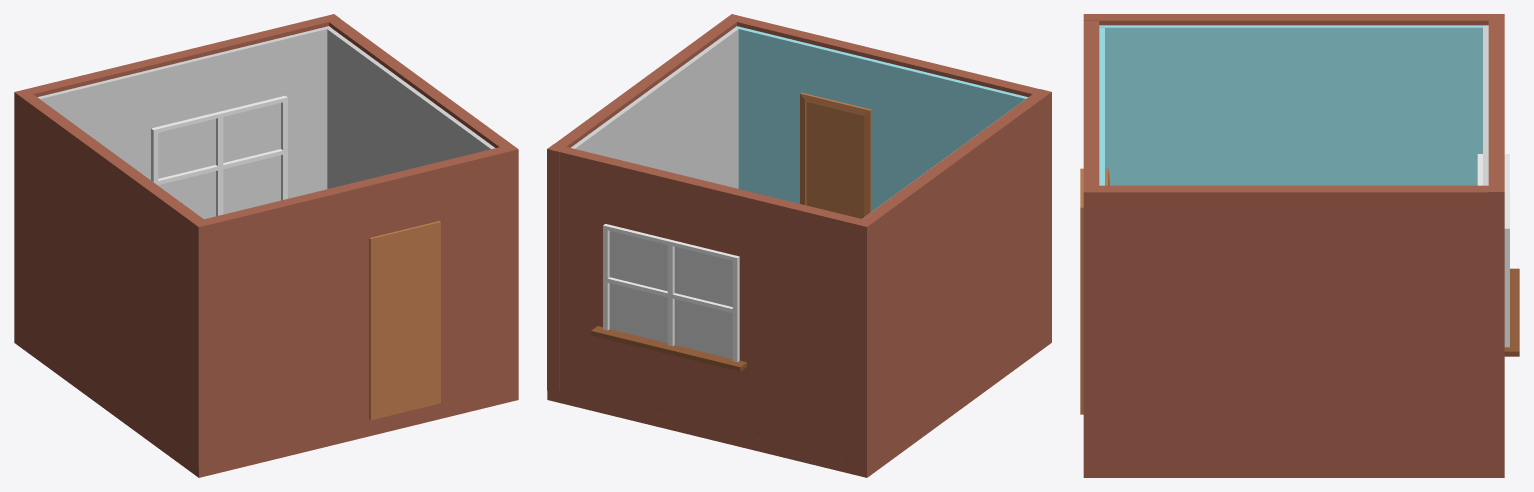
The model's file is room base.fbx.
3 views of the same model, side by side, from view 1: azimuth 30°, elevation 25°; view 2: azimuth 150°, elevation 25°; view 3: azimuth 270°, elevation 25° (orthographic). The views are drawn at different scales.
Parts seen in each view (by area): view 1: Куб.081, Куб.036, Cube, Куб.071, Куб.035; view 2: Куб.036, Куб.081, Куб.071, Cube, Куб.035, Куб.074; view 3: Куб.081, Куб.036, Куб.035, Куб.071, Cube, Куб.074.
Boxes of the visible parts, x1,y1,x2,y2 form: Куб.081: (192, 19, 518, 468); Куб.036: (14, 14, 340, 468); Cube: (369, 221, 440, 420); Куб.071: (151, 95, 287, 218); Куб.035: (14, 334, 518, 477); Куб.036: (547, 89, 1051, 468); Куб.081: (547, 14, 1051, 393); Куб.071: (603, 224, 739, 362); Cube: (800, 92, 871, 218); Куб.035: (547, 334, 1051, 477); Куб.074: (591, 326, 746, 371); Куб.081: (1083, 21, 1504, 467); Куб.036: (1083, 14, 1504, 467); Куб.035: (1083, 467, 1504, 477); Куб.071: (1477, 154, 1509, 347); Cube: (1080, 168, 1109, 414); Куб.074: (1504, 268, 1519, 356).
Size of the model in its own units: 911 by 682 by 950.
